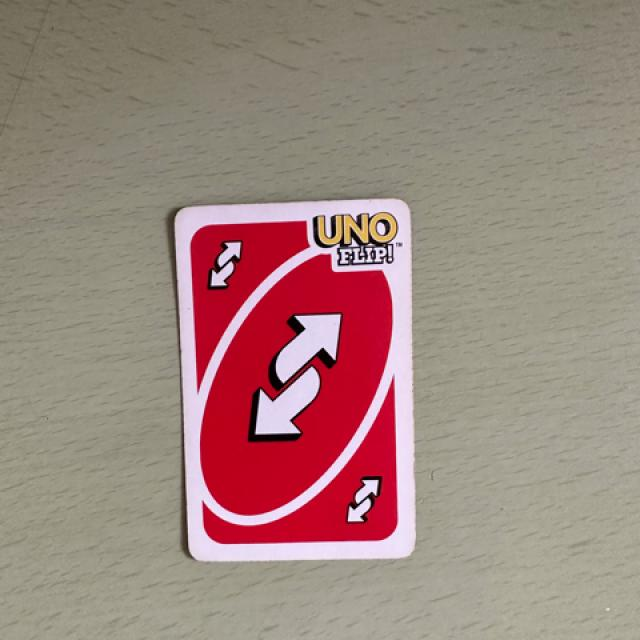lredrevers-20: (187, 219, 259, 315)
